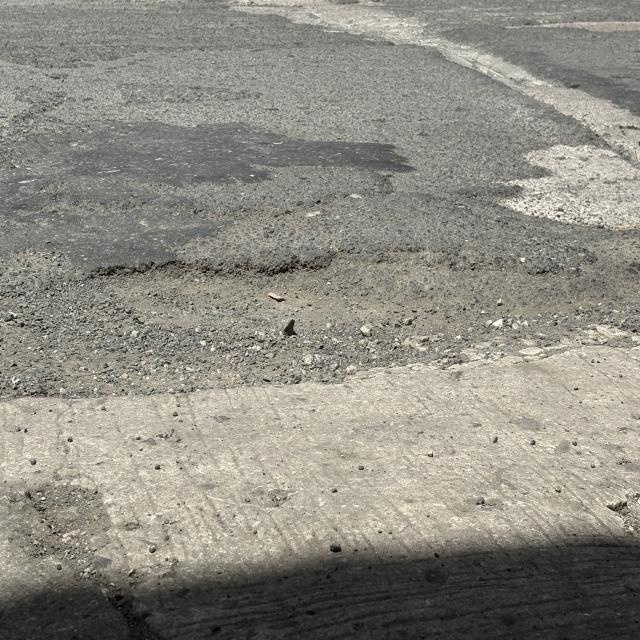pothole: (0, 156, 612, 438)
